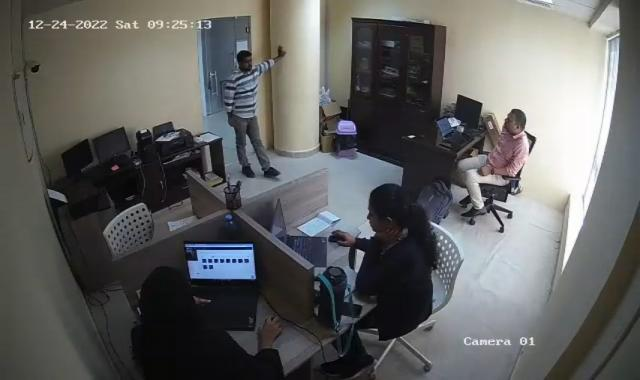no_hairnet: (366, 184, 416, 233), (502, 108, 526, 136), (234, 50, 254, 72)
